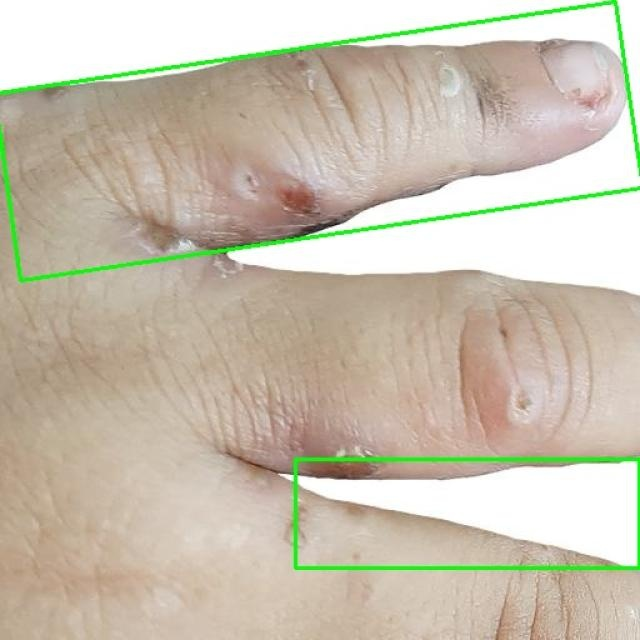Scabies: (0, 2, 640, 281), (295, 459, 639, 568)
